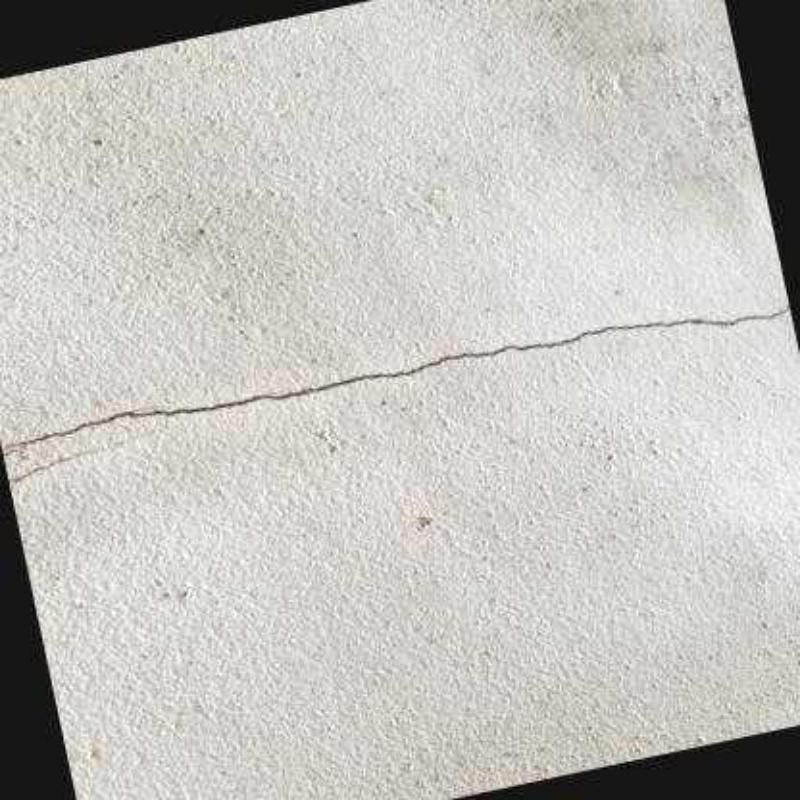pothole: (0, 305, 789, 457), (8, 444, 110, 487)
